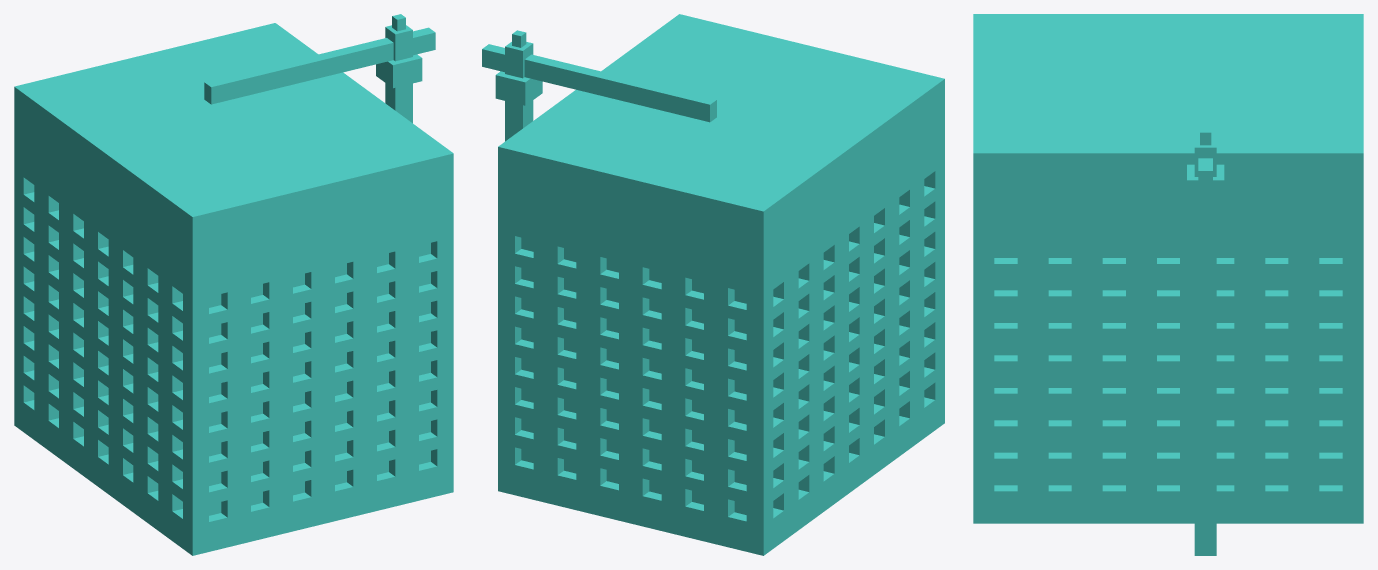
File: investment.glb
The picture shows the model from 3 angles, left to right: view 1: azimuth 30°, elevation 25°; view 2: azimuth 150°, elevation 25°; view 3: azimuth 270°, elevation 25°; orthographic projection. The views are drawn at different scales.
Parts seen in each view (by area): view 1: investment; view 2: investment; view 3: investment.
Part boxes in pixels (<box>): investment: <box>14,14,453,555</box>; investment: <box>482,14,944,555</box>; investment: <box>973,14,1363,555</box>.
Size of the model in its own units: 0.94 by 1 by 0.84.
